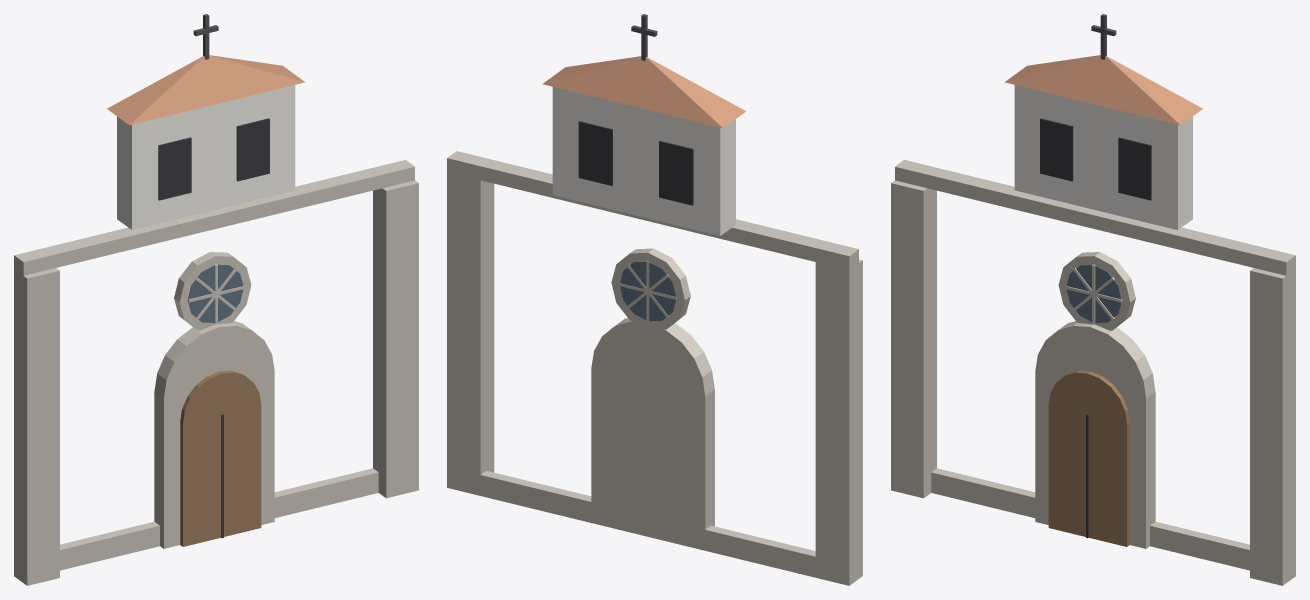
File: VJ_FrenteTemplo.fbx
The picture shows the model from 3 angles, left to right: view 1: azimuth 30°, elevation 25°; view 2: azimuth 150°, elevation 25°; view 3: azimuth 330°, elevation 25°; orthographic projection. The views are drawn at different scales.
Visible parts, largest first — view 1: VJ_FrenteTemplo; view 2: VJ_FrenteTemplo; view 3: VJ_FrenteTemplo.
Boxes of the visible parts, x1=… form: VJ_FrenteTemplo: x1=14, y1=14, x2=418, y2=585; VJ_FrenteTemplo: x1=447, y1=14, x2=862, y2=585; VJ_FrenteTemplo: x1=891, y1=14, x2=1295, y2=585.
Size of the model in its own units: 12 by 14.95 by 1.5.
